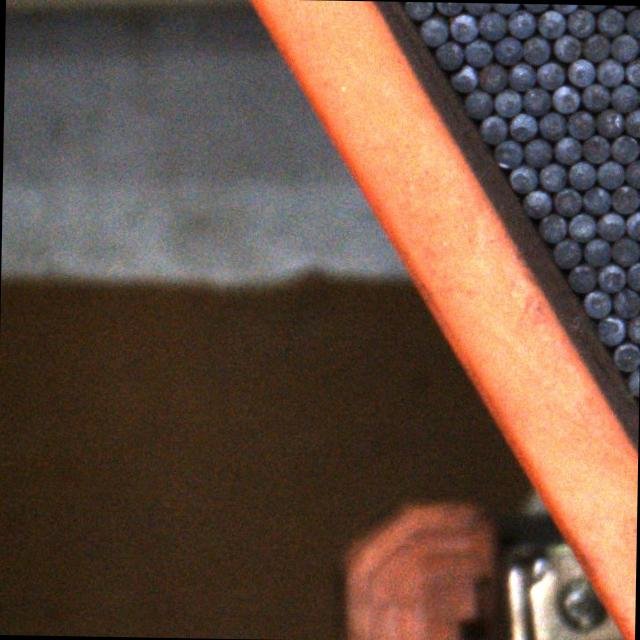tool: (478, 64, 508, 92), (568, 212, 596, 242), (433, 41, 462, 69), (522, 86, 550, 115), (612, 287, 639, 317), (610, 134, 637, 164), (463, 90, 491, 118), (522, 188, 550, 216), (551, 238, 579, 266), (566, 264, 594, 292), (612, 342, 640, 370), (508, 112, 536, 140), (506, 9, 534, 37), (536, 10, 564, 38), (508, 62, 536, 90), (566, 58, 594, 86), (610, 84, 638, 112), (538, 112, 566, 140), (610, 185, 638, 213), (596, 7, 623, 36), (494, 87, 520, 117), (420, 17, 447, 45), (449, 13, 476, 41), (464, 38, 492, 65), (538, 163, 566, 190), (553, 188, 580, 216), (583, 238, 610, 266), (477, 11, 504, 39), (582, 134, 609, 162), (596, 161, 624, 188), (566, 9, 593, 36), (553, 136, 580, 163), (450, 64, 478, 90), (480, 114, 506, 142), (508, 165, 536, 191), (582, 290, 610, 316), (598, 316, 624, 344), (598, 264, 624, 292), (494, 36, 520, 64), (521, 36, 547, 64), (582, 34, 608, 62), (535, 62, 563, 88), (552, 84, 578, 112), (596, 58, 622, 86), (596, 108, 622, 136), (568, 110, 594, 138), (494, 139, 520, 166), (524, 140, 550, 167), (610, 34, 636, 61), (582, 83, 608, 110), (568, 161, 594, 188), (581, 187, 608, 213), (596, 213, 623, 239), (538, 214, 564, 240), (612, 238, 638, 264), (554, 35, 578, 60), (404, 1, 432, 18), (623, 107, 640, 135), (624, 8, 640, 37), (624, 159, 640, 187), (624, 211, 640, 239), (626, 261, 640, 289), (625, 59, 640, 85), (627, 313, 640, 342), (463, 2, 490, 14), (434, 2, 462, 13), (492, 3, 518, 13)
